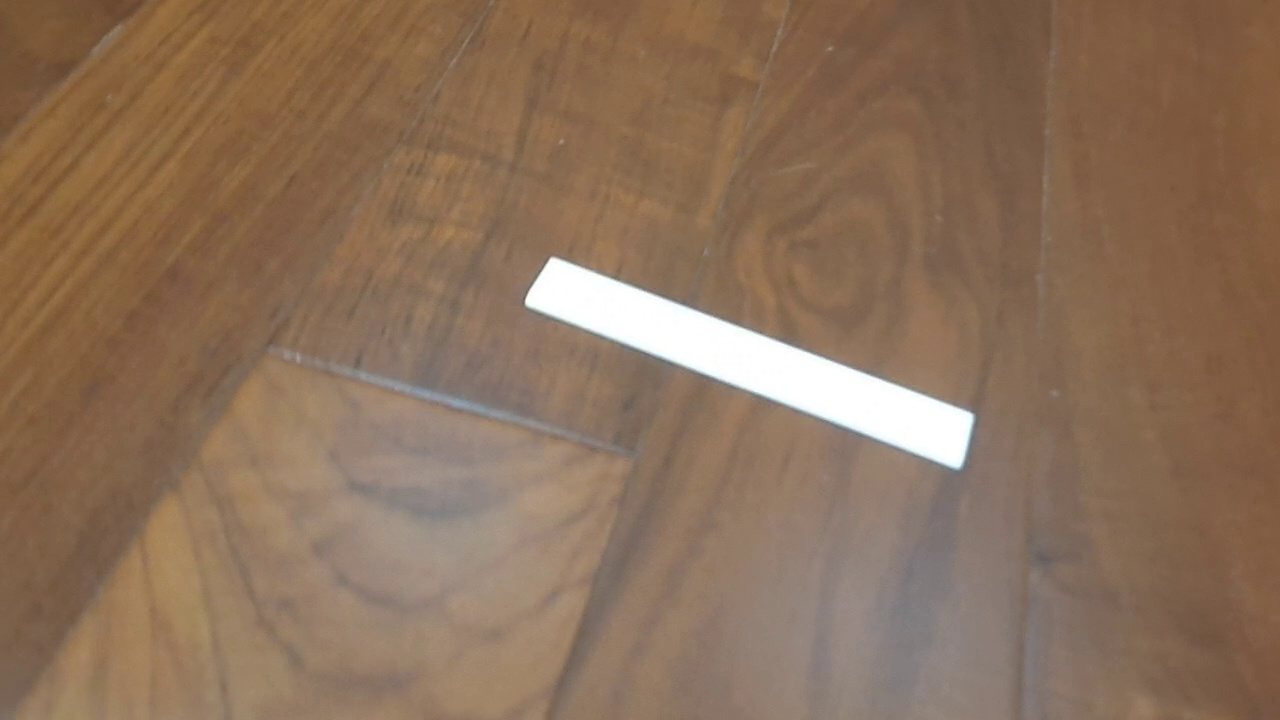ruler: (522, 254, 976, 471)
